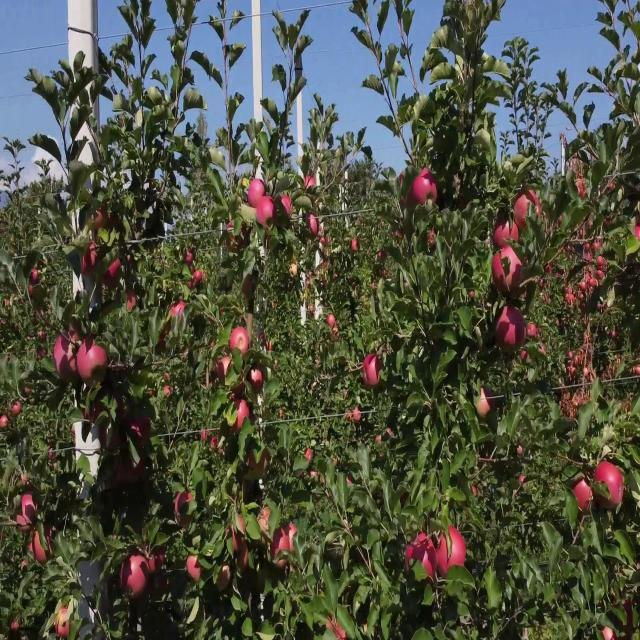apple: (436, 526, 468, 576), (596, 462, 624, 510), (500, 305, 527, 350), (120, 554, 148, 597), (80, 341, 108, 382), (436, 533, 460, 578), (500, 248, 523, 292), (412, 170, 439, 206), (496, 312, 520, 352), (436, 533, 456, 578), (56, 334, 76, 377), (416, 533, 436, 576), (404, 540, 428, 574), (84, 348, 109, 380), (100, 426, 127, 455), (80, 341, 99, 382), (616, 597, 635, 638), (36, 526, 55, 564), (176, 490, 194, 528), (228, 220, 247, 256), (420, 540, 437, 580), (364, 355, 383, 389), (248, 447, 270, 476), (272, 533, 289, 569), (248, 177, 266, 210), (132, 419, 152, 448), (256, 199, 276, 228), (124, 455, 144, 484), (232, 327, 251, 357), (476, 391, 495, 420), (424, 170, 439, 206), (492, 220, 510, 249), (228, 526, 247, 553), (148, 547, 167, 574), (84, 241, 99, 274), (576, 483, 593, 512), (492, 255, 505, 290), (188, 554, 203, 583), (400, 177, 414, 208), (216, 355, 232, 382), (104, 263, 120, 290), (56, 611, 71, 639), (84, 248, 99, 276), (84, 405, 103, 427), (236, 405, 251, 432), (24, 497, 39, 523), (96, 206, 110, 233), (496, 220, 509, 249), (216, 568, 232, 590), (16, 511, 32, 533), (280, 199, 293, 226), (108, 263, 121, 290), (404, 547, 417, 574), (516, 199, 528, 228), (528, 191, 543, 213), (188, 270, 203, 292), (288, 526, 299, 555), (232, 383, 247, 404), (308, 213, 320, 238), (68, 327, 83, 347), (88, 241, 99, 268), (252, 369, 264, 393), (508, 220, 520, 244), (304, 177, 318, 197), (428, 227, 438, 254), (260, 511, 271, 535), (212, 433, 224, 455), (260, 511, 271, 533), (260, 334, 272, 354), (116, 462, 126, 485), (240, 547, 249, 572), (172, 305, 185, 322), (20, 476, 33, 492), (128, 291, 137, 313), (48, 447, 57, 469), (244, 277, 253, 297), (12, 618, 22, 636), (336, 625, 348, 639), (604, 625, 616, 639), (12, 405, 23, 420), (188, 248, 196, 268), (0, 412, 10, 428), (328, 312, 337, 329), (304, 447, 313, 462), (328, 618, 337, 633), (204, 433, 213, 443), (400, 497, 408, 507), (348, 476, 355, 485), (636, 227, 640, 242)
